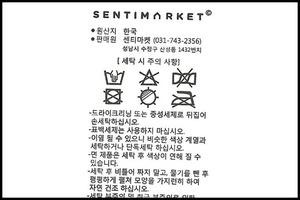DN_bleach: (139, 68, 160, 86)
DN_iron: (170, 89, 197, 109)
DN_tumble_dry: (101, 87, 125, 106)
DN_wring: (170, 67, 200, 89)
hand_wash: (103, 67, 126, 85)
shade_dry: (136, 87, 158, 107)
